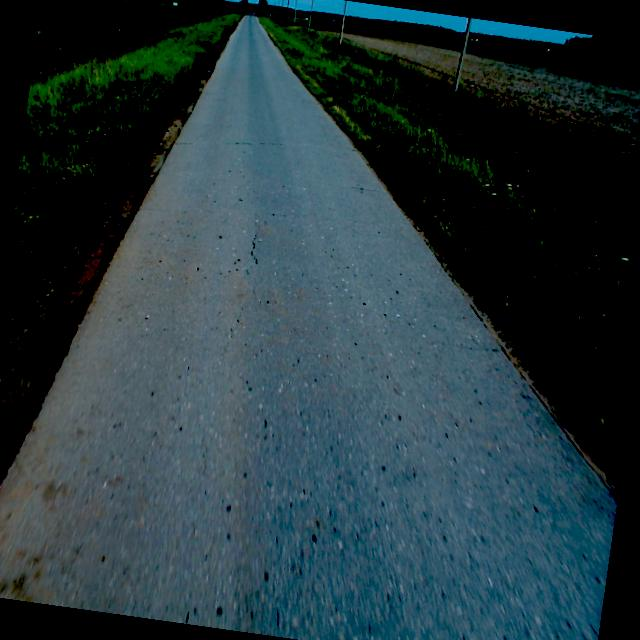road: (0, 13, 617, 640)
